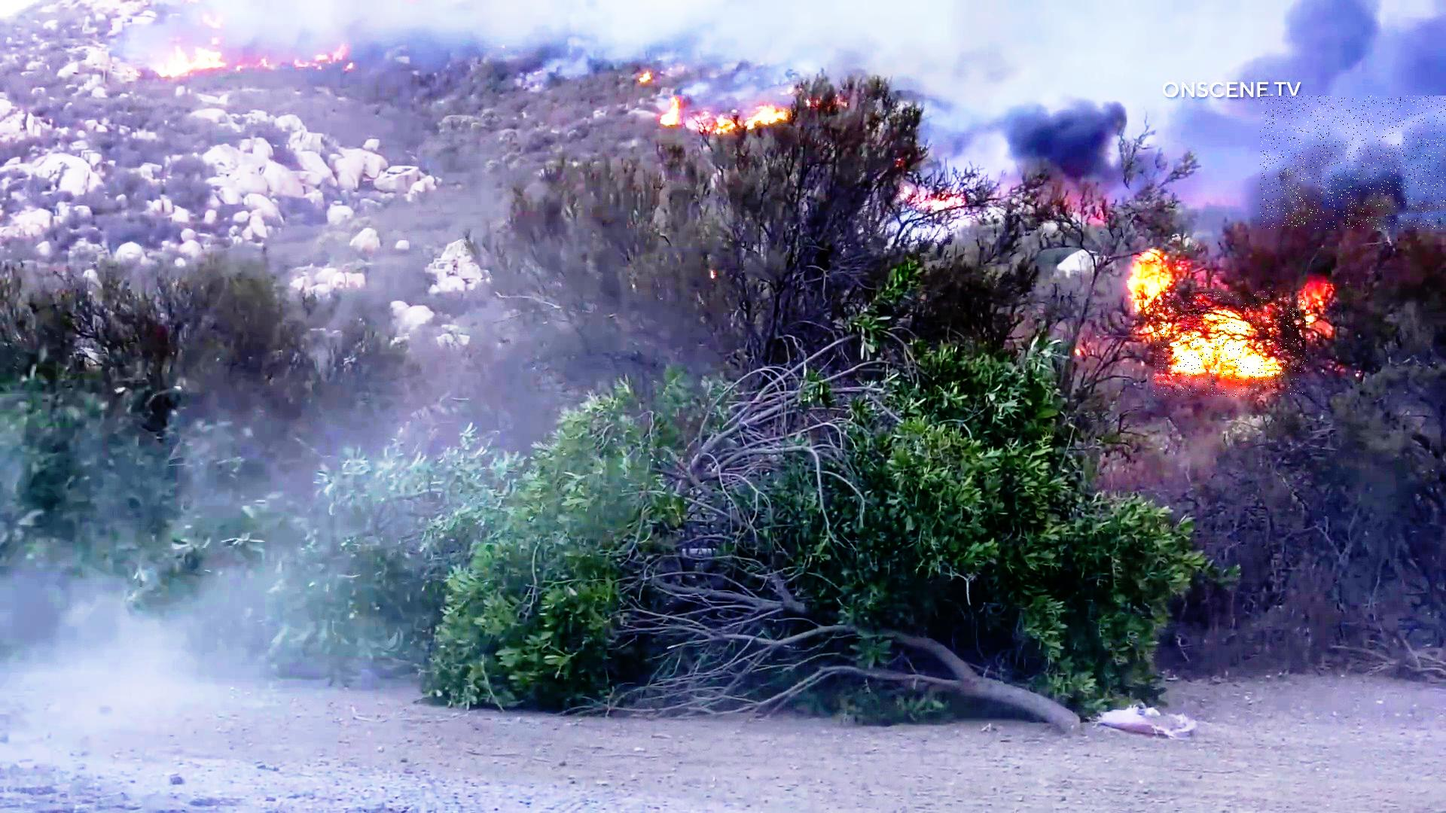fire: (1154, 291, 1308, 397)
smoke: (1260, 96, 1446, 229)
